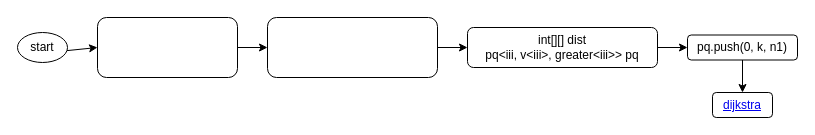
Image size: 815x135. Some labels were removed from this diagram. The shapes that lost their labels are listed below. From the top down, each one's box as (x1, y1, x2, y2) in pixels, then its label:
(96, 16, 238, 78): k = (read hull thickness) n = (read # of islands) m = (read # of routes)
(266, 16, 438, 78): adjL = (read and store routes) n1 = (read starting point) n2 = (read target)
